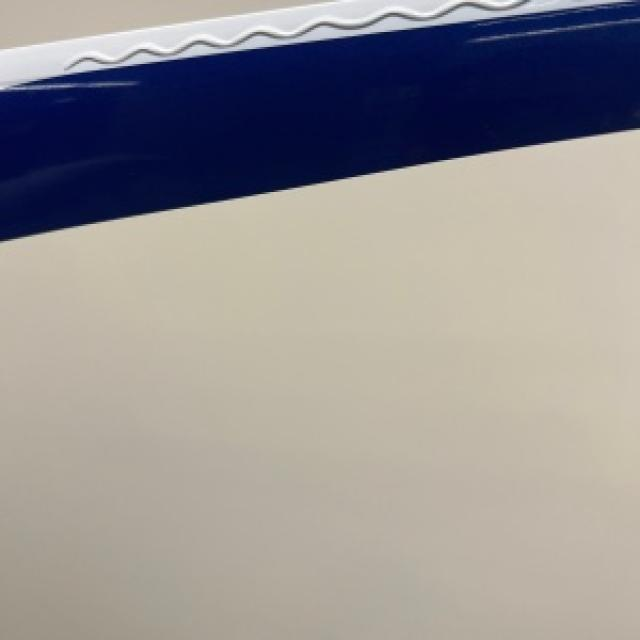healthy: (0, 128, 638, 638), (0, 0, 638, 237)
